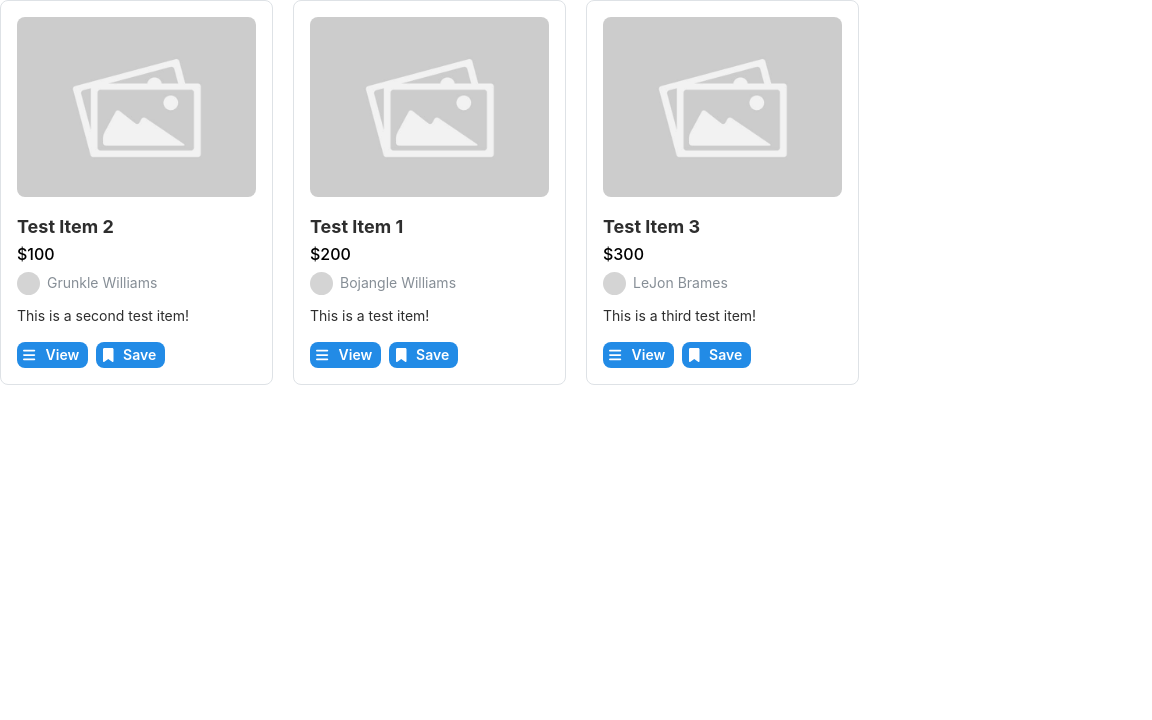
Test: MarketplacePage › Values are properly ordered by price from low to high
Check: the link "Test Item 2" is shown, box [17,213,114,241]
Step 1. Click the button with test id "view-button" below "This is a second test item!" → (53, 355), box [17,342,88,368]
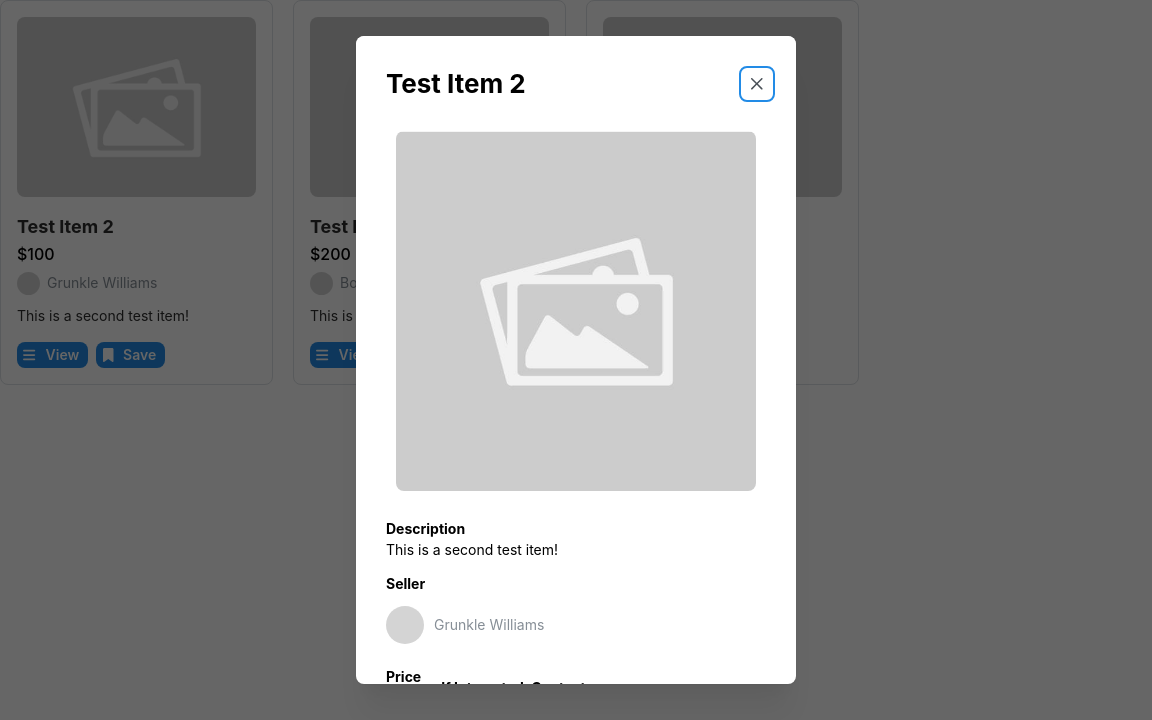
Check: the text with test id "listing-modal-title" reads "Test Item 2", box [386,68,526,99]
Check: the text with test id "listing-modal-seller" reads "Grunkle Williams", box [434,615,544,635]
Check: the text with test id "listing-modal-description" reads "This is a second test item!", box [386,541,558,558]
